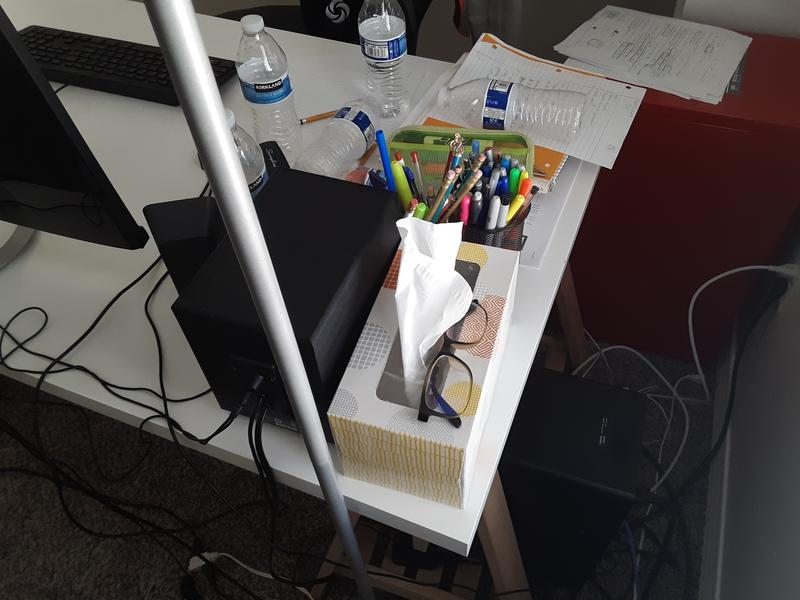glasses: (417, 297, 489, 430)
